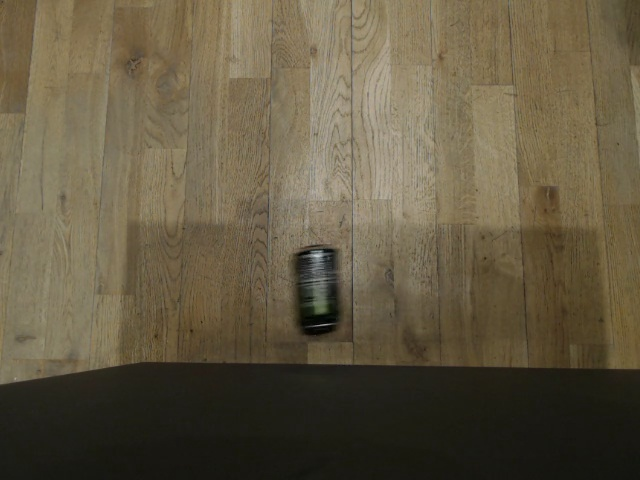beer: (293, 245, 342, 331)
